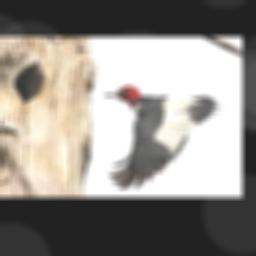Woodpecker: (104, 85, 223, 189)
